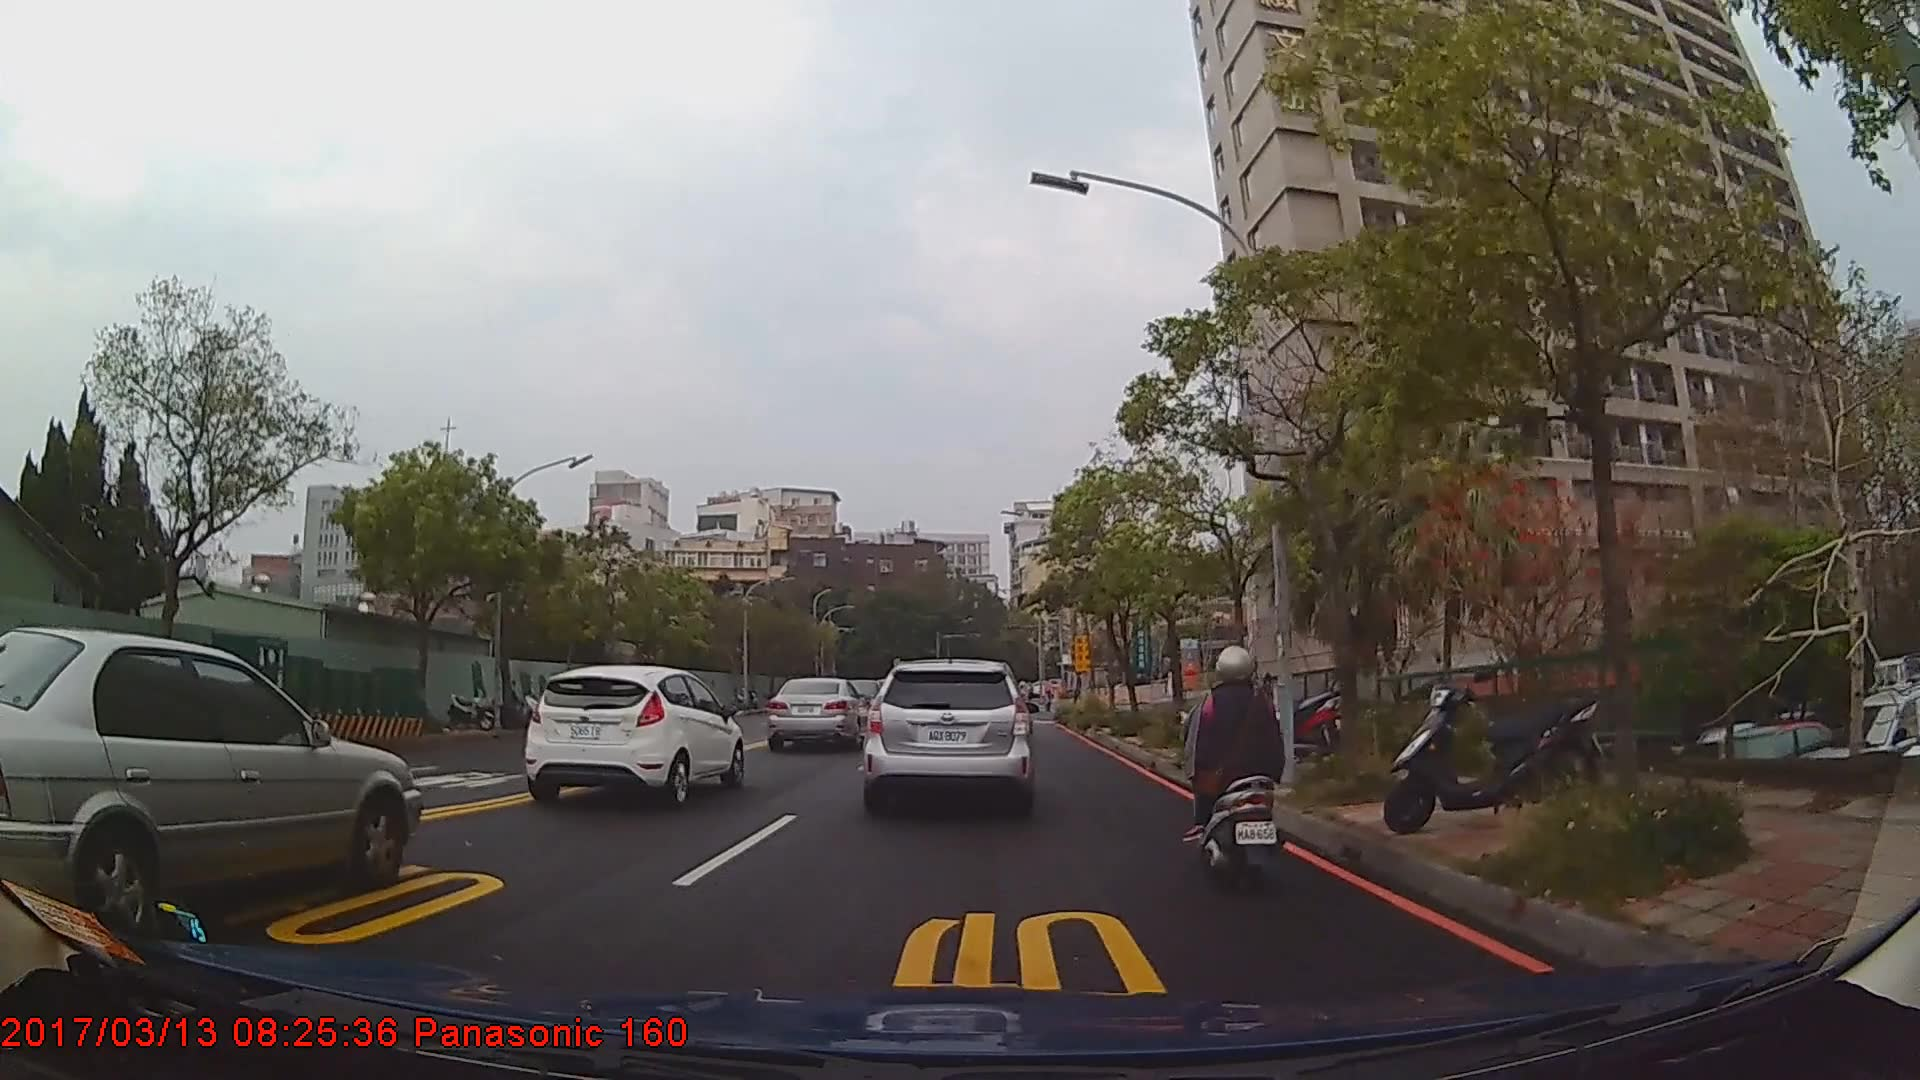rider: (1183, 643, 1297, 892)
vehicle: (0, 621, 421, 941), (521, 664, 743, 811), (862, 657, 1033, 819), (767, 674, 871, 753)
